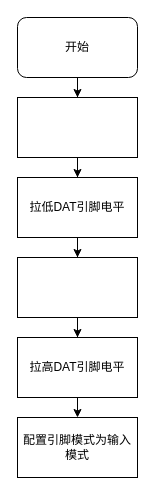
This 155x495 diagram has some shape labels left out. The centre of each missing label's shape, as x and y in pixels:
"主动延时" goes at (x=77, y=287).
"配置引脚模式为输出模式" goes at (x=77, y=127).
